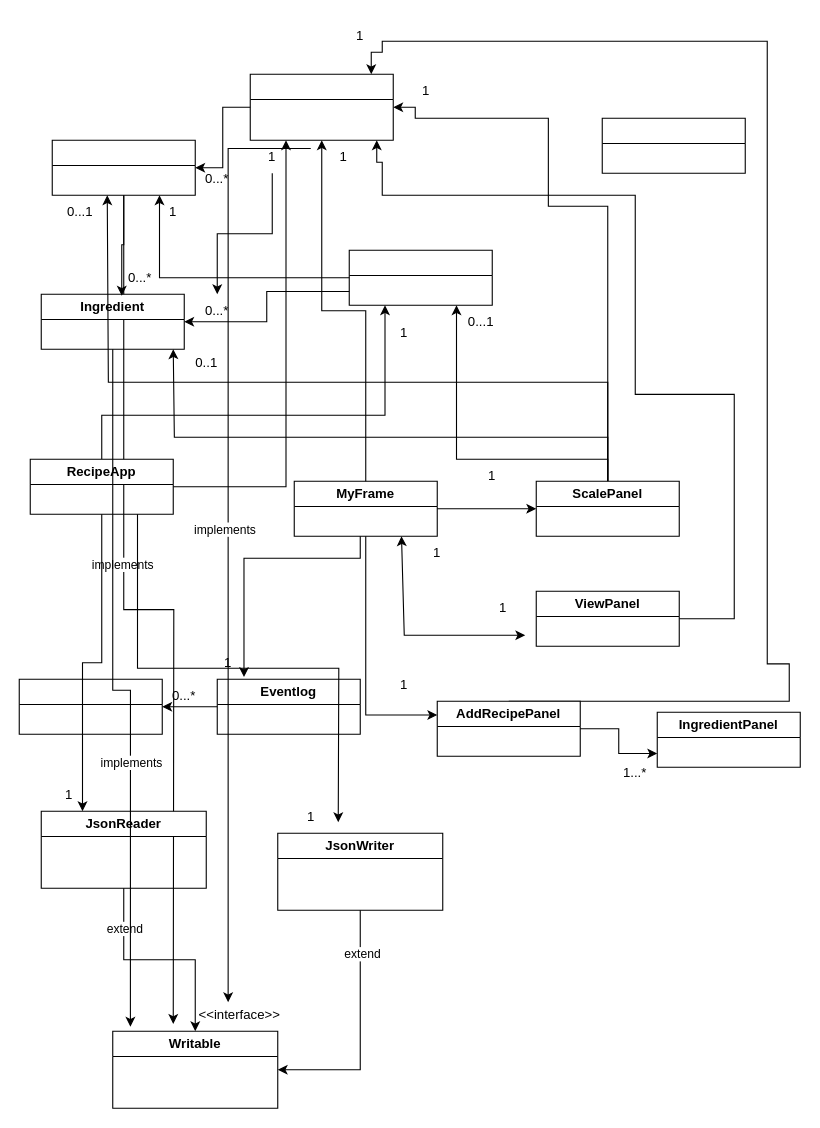
The diagram is 820 pixels wide and 1128 high, and some of its shapes have lost their labels. The centre of each missing label's shape, as x and y in pixels:
"Event" belongs at point (90, 706).
"Main" belongs at point (673, 145).
"Recipe" belongs at point (123, 167).
"RecipeBook" belongs at point (321, 106).
"RecipeConverter" belongs at point (420, 277).
